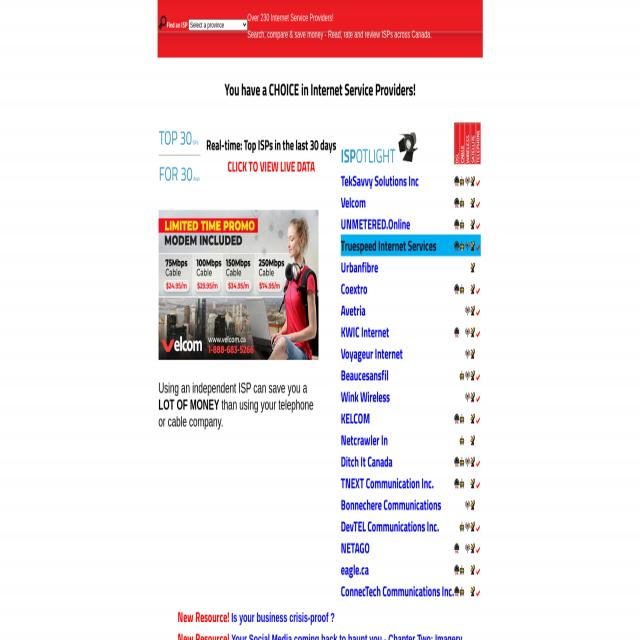button: (158, 210, 318, 360), (398, 131, 418, 163), (454, 122, 460, 165), (459, 122, 465, 165), (470, 122, 476, 165), (475, 122, 481, 165), (465, 122, 470, 165), (158, 16, 166, 30), (454, 176, 460, 186), (459, 176, 465, 186), (470, 176, 476, 186), (454, 198, 460, 208), (459, 198, 465, 208), (470, 198, 476, 208), (454, 220, 460, 230), (459, 220, 465, 230), (470, 220, 476, 230), (454, 241, 460, 251), (459, 241, 465, 251), (470, 241, 476, 251), (470, 263, 476, 273), (454, 284, 460, 294), (459, 284, 465, 294), (470, 284, 476, 294), (470, 306, 476, 316), (454, 328, 460, 338), (470, 328, 476, 338), (470, 349, 476, 359), (459, 370, 465, 380), (470, 370, 476, 380), (470, 392, 476, 402), (454, 414, 460, 424), (459, 414, 465, 424), (470, 414, 476, 424), (459, 435, 465, 445), (470, 435, 476, 445), (454, 457, 460, 467), (459, 457, 465, 467), (470, 457, 476, 467), (454, 478, 460, 488), (459, 478, 465, 488), (470, 478, 476, 488), (470, 500, 476, 510), (459, 522, 465, 532), (470, 522, 476, 532), (454, 543, 460, 553), (470, 543, 476, 553), (454, 565, 460, 575), (459, 565, 465, 575), (470, 565, 476, 575), (454, 586, 460, 596), (459, 586, 465, 596), (470, 586, 476, 596), (465, 176, 470, 186), (465, 241, 470, 251), (465, 306, 470, 316), (465, 328, 470, 338), (465, 349, 470, 359), (465, 370, 470, 380), (465, 392, 470, 402), (465, 457, 470, 467), (465, 500, 470, 510), (465, 522, 470, 532), (465, 543, 470, 553)
field: (188, 19, 248, 31)
